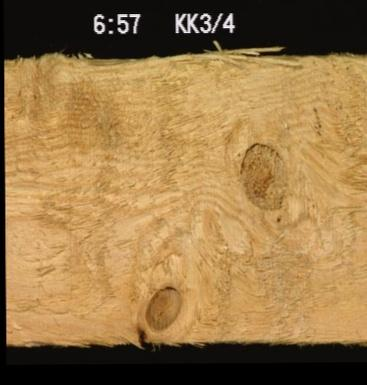dry_knot: (235, 138, 289, 212), (140, 283, 182, 331)
wave: (48, 51, 153, 75)
